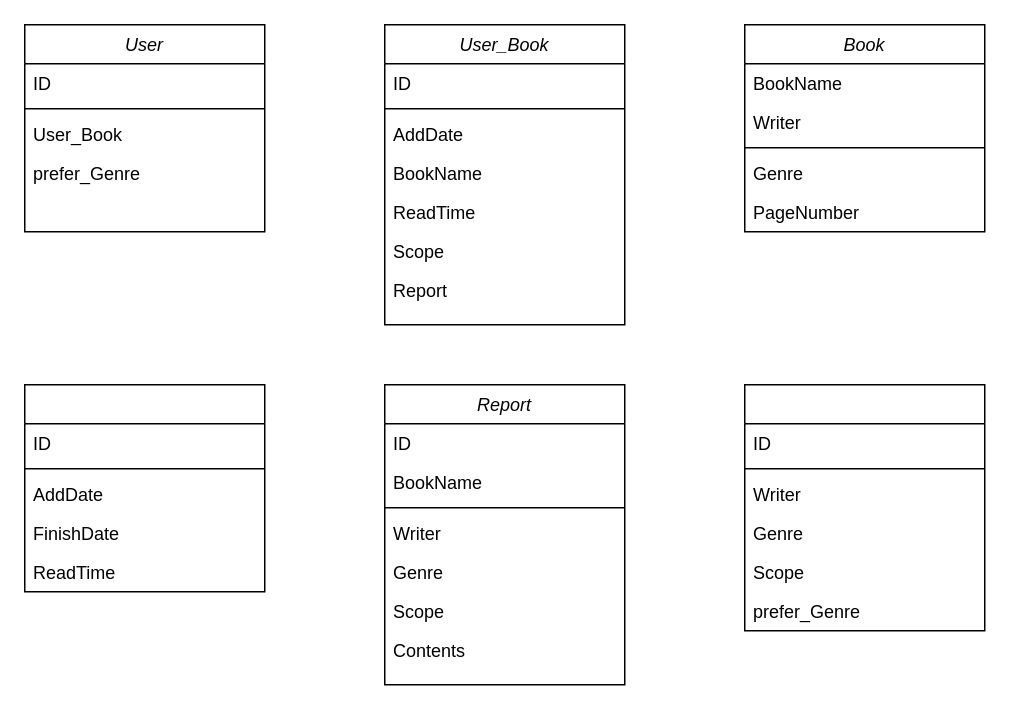
The diagram is 1010 pixels wide and 710 high, and some of its shapes have lost their labels. The box of each missing label's shape, as (x1, y1, x2, y2) in pixels:
Recommend: (743, 383, 985, 631)
TakenTime: (23, 383, 265, 592)
